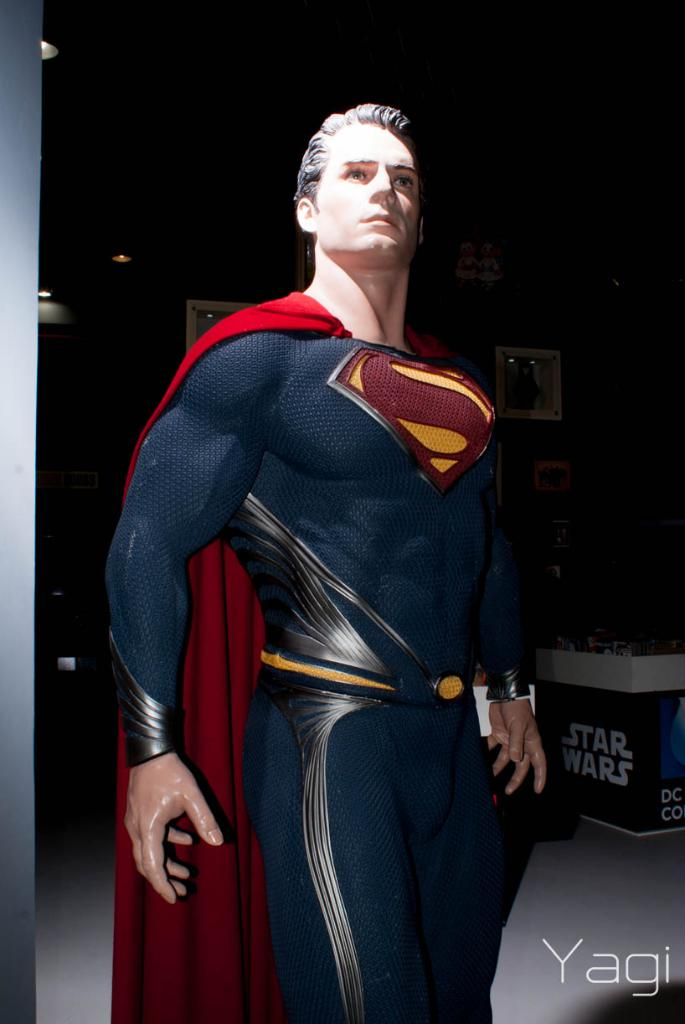face: (321, 119, 422, 272)
